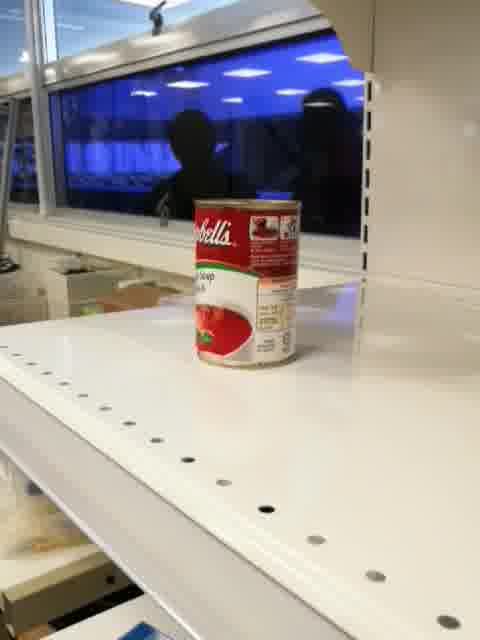tomatosoup: (192, 194, 304, 372)
